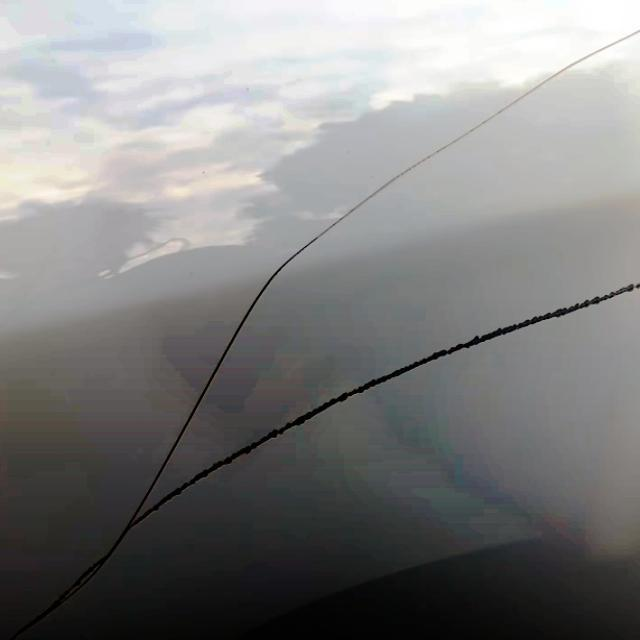crack: (153, 59, 438, 426), (192, 317, 584, 495)
